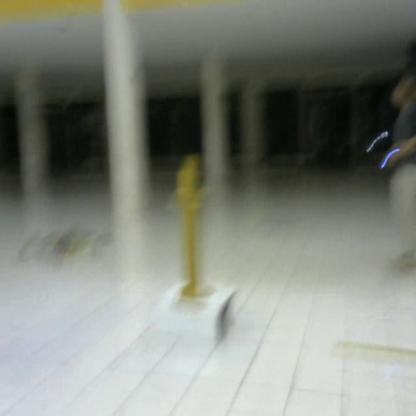pole: (165, 151, 215, 306)
